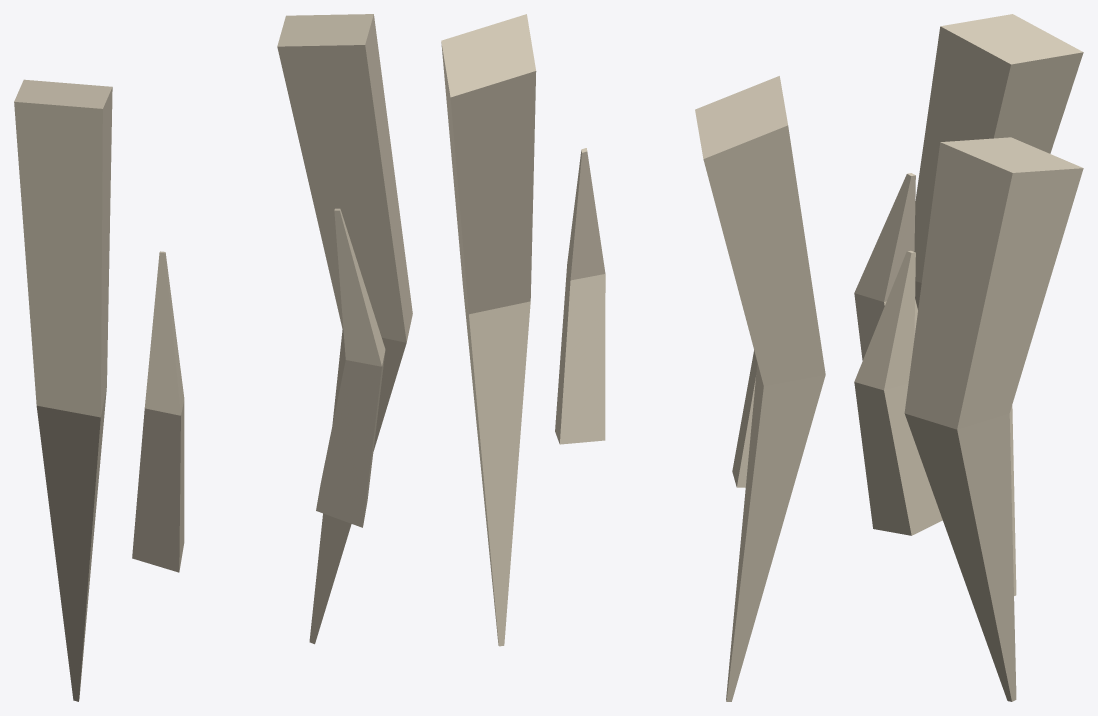
The model's file is fangs.glb.
3 renders of one model, left to right at view 1: azimuth 30°, elevation 25°; view 2: azimuth 150°, elevation 25°; view 3: azimuth 270°, elevation 25°, orthographic. The views are drawn at different scales.
Parts seen in each view (by area): view 1: fangs; view 2: fangs; view 3: fangs.
Part boxes in pixels (left/top/right/bottom): fangs: left=14, top=14, right=412, bottom=701; fangs: left=441, top=14, right=825, bottom=701; fangs: left=854, top=14, right=1083, bottom=701.
Size of the model in its own units: 0.0861 by 0.1363 by 0.0502.
